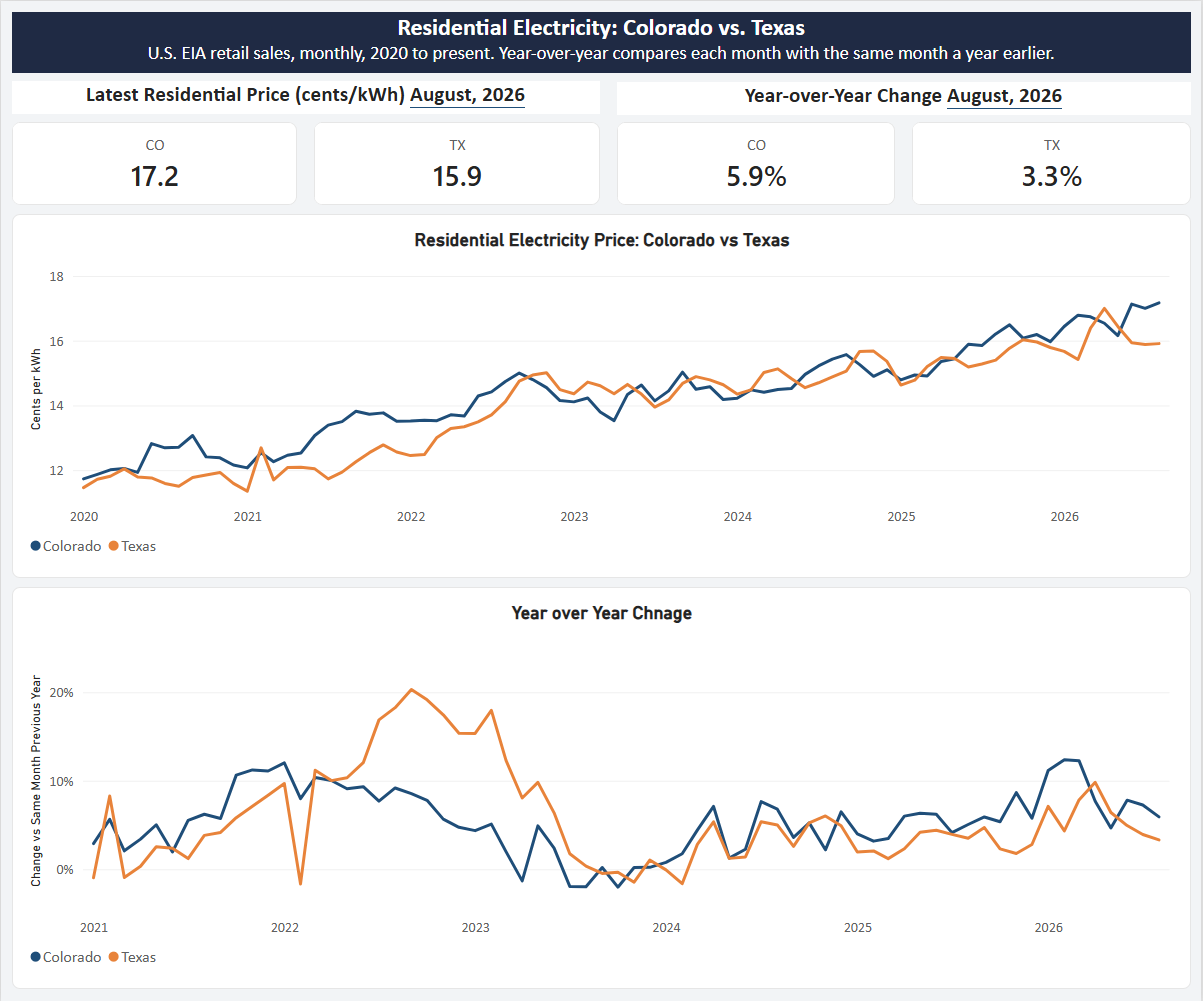

The page's visual inventory and layout, read from the dashboard file:
{"tool":"powerbi","page":{"name":"Page 1","canvas":[1200,1000],"ordinal":0},"visuals":[{"type":"lineChart","title":"Residential Electricity Price: Colorado vs Texas","fields":{"Category":["mart_price_yoy.period_month"],"Series":["mart_price_yoy.state_name"],"Y":["Avg(mart_price_yoy.price_cents_per_kwh)"]},"box":[11,213,1179,364],"z":0},{"type":"cardVisual","fields":{"Data":["mart_price_yoy.CO Latest Price"]},"box":[11,121,285,83],"z":1000},{"type":"cardVisual","fields":{"Data":["mart_price_yoy.TX Latest Price"]},"box":[313,121,286,83],"z":2000},{"type":"cardVisual","fields":{"Data":["mart_price_yoy.TX YoY Change"]},"box":[911,121,279,83],"z":3000},{"type":"cardVisual","fields":{"Data":["mart_price_yoy.CO YoY Change"]},"box":[616,121,278,83],"z":4000},{"type":"textbox","box":[11,11,1179,61],"z":5000},{"type":"textbox","box":[11,80,588,33],"z":6000},{"type":"textbox","box":[616,81,574,33],"z":7000},{"type":"lineChart","title":"Year over Year Chnage","fields":{"Category":["mart_price_yoy.period_month"],"Series":["mart_price_yoy.state_name"],"Y":["Avg(mart_price_yoy.yoy_change_pct)"]},"box":[11,586,1179,402],"z":8000}]}

Visuals, with their boxes in screenshot pixels (x1, y1, x2, y2), scaled from the page's 1200x1000 canvas onto the 1203x1001 screenshot:
"Residential Electricity Price: Colorado vs Texas" lineChart: {"x1": 11, "y1": 213, "x2": 1193, "y2": 578}
cardVisual - mart_price_yoy.CO Latest Price: {"x1": 11, "y1": 121, "x2": 297, "y2": 204}
cardVisual - mart_price_yoy.TX Latest Price: {"x1": 314, "y1": 121, "x2": 600, "y2": 204}
cardVisual - mart_price_yoy.TX YoY Change: {"x1": 913, "y1": 121, "x2": 1193, "y2": 204}
cardVisual - mart_price_yoy.CO YoY Change: {"x1": 618, "y1": 121, "x2": 896, "y2": 204}
textbox: {"x1": 11, "y1": 11, "x2": 1193, "y2": 72}
textbox: {"x1": 11, "y1": 80, "x2": 600, "y2": 113}
textbox: {"x1": 618, "y1": 81, "x2": 1193, "y2": 114}
"Year over Year Chnage" lineChart: {"x1": 11, "y1": 587, "x2": 1193, "y2": 989}
